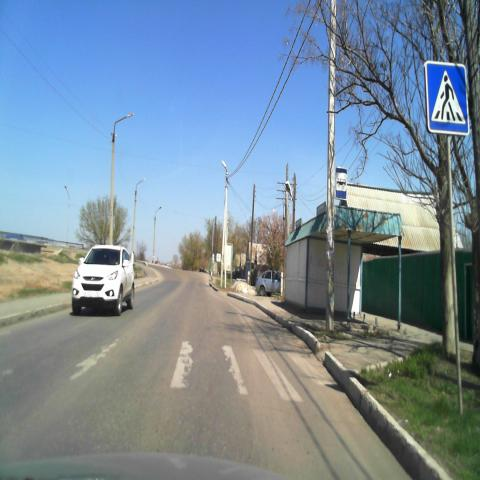5_16: (334, 166, 348, 199)
5_19_1: (425, 63, 469, 137)
